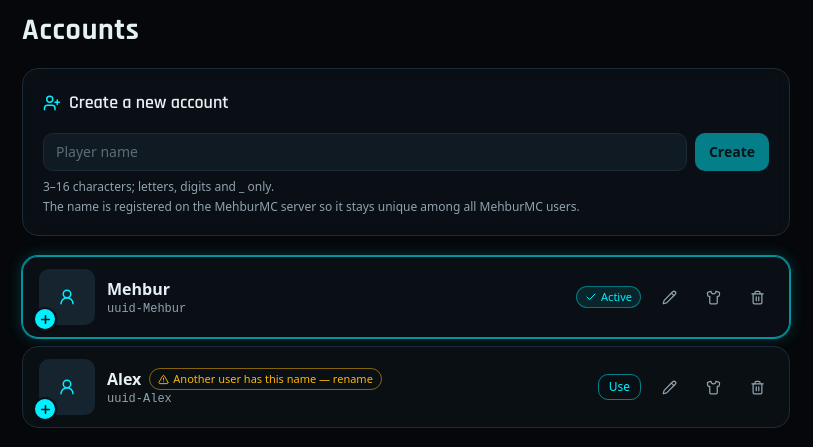
AccountsPage › flags accounts whose name another user has and offers a rename
Click the button "Another user has this name — rename".
click(266, 379)  # box [149,368,382,390]
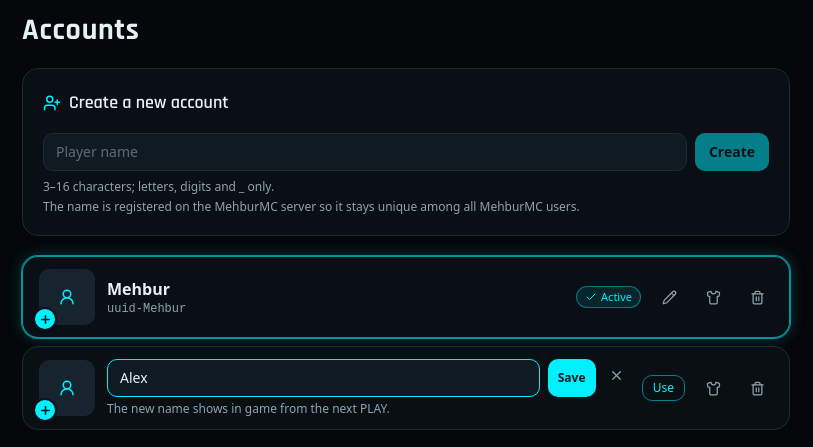
Now the field named "Rename" holds "Alex", box [107,359,540,397]
